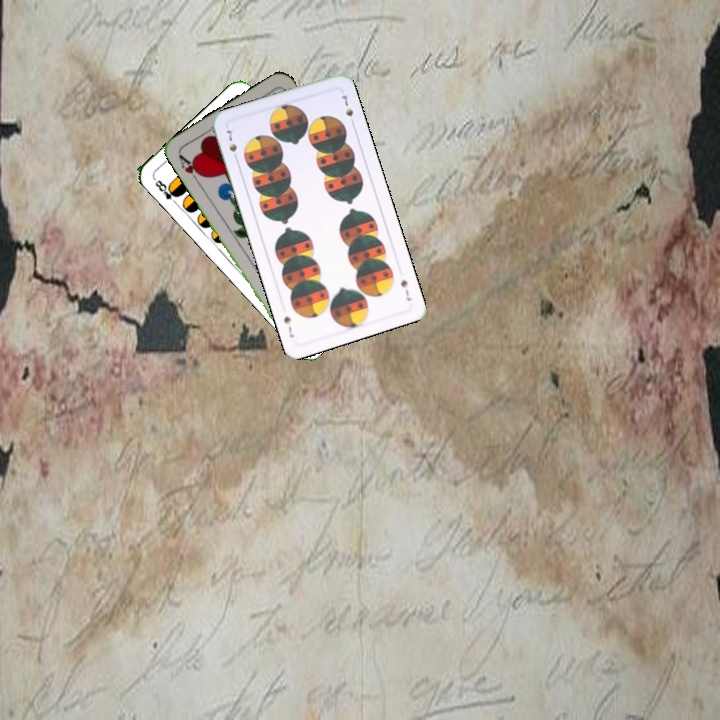E8: (150, 174, 182, 208)
HA: (175, 150, 206, 186)
S7: (222, 126, 241, 164), (397, 275, 414, 303)
